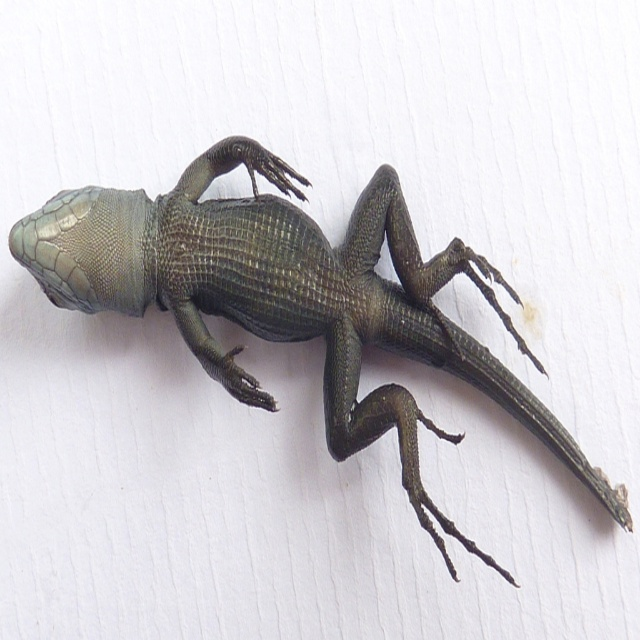Lizard: (10, 128, 631, 581)
